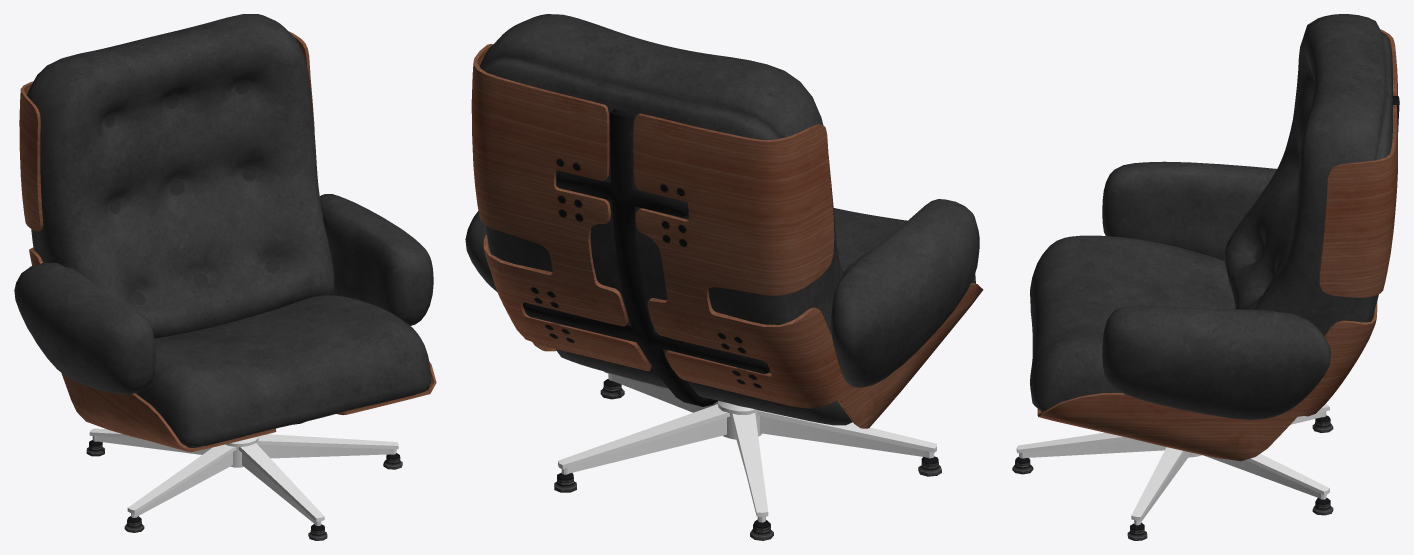
Rendered from Furnario_Chair_chrome.gltf.
The picture shows the model from 3 angles, left to right: view 1: azimuth 30°, elevation 25°; view 2: azimuth 150°, elevation 25°; view 3: azimuth 270°, elevation 25°; orthographic projection. The views are drawn at different scales.
Visible parts, largest first — view 1: Chair, Chair.008; view 2: Chair, Chair.008; view 3: Chair, Chair.008.
Part boxes in pixels (x1=…): Chair: x1=14, y1=14, x2=433, y2=540; Chair.008: x1=19, y1=31, x2=436, y2=452; Chair: x1=465, y1=14, x2=979, y2=540; Chair.008: x1=471, y1=44, x2=983, y2=428; Chair: x1=1012, y1=14, x2=1399, y2=540; Chair.008: x1=1037, y1=29, x2=1397, y2=461.
Size of the model in its own units: 0.9428 by 1 by 0.8593.
Materials: 2 (1 with a texture image).
